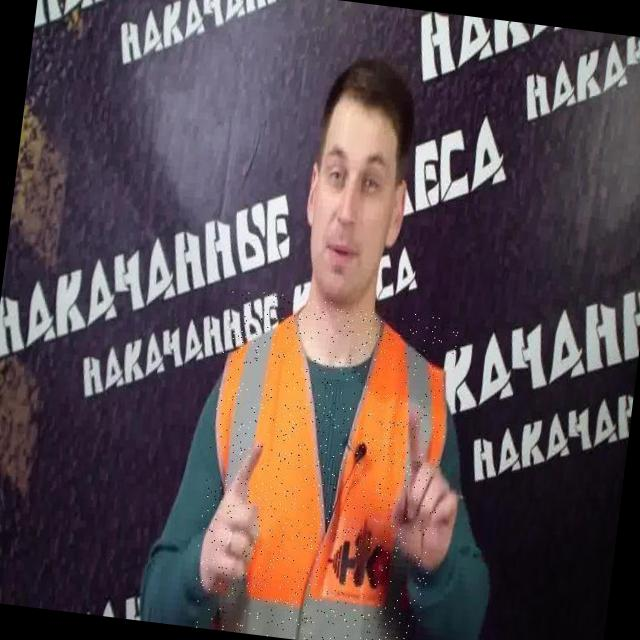safety_vest: (187, 287, 459, 640)
